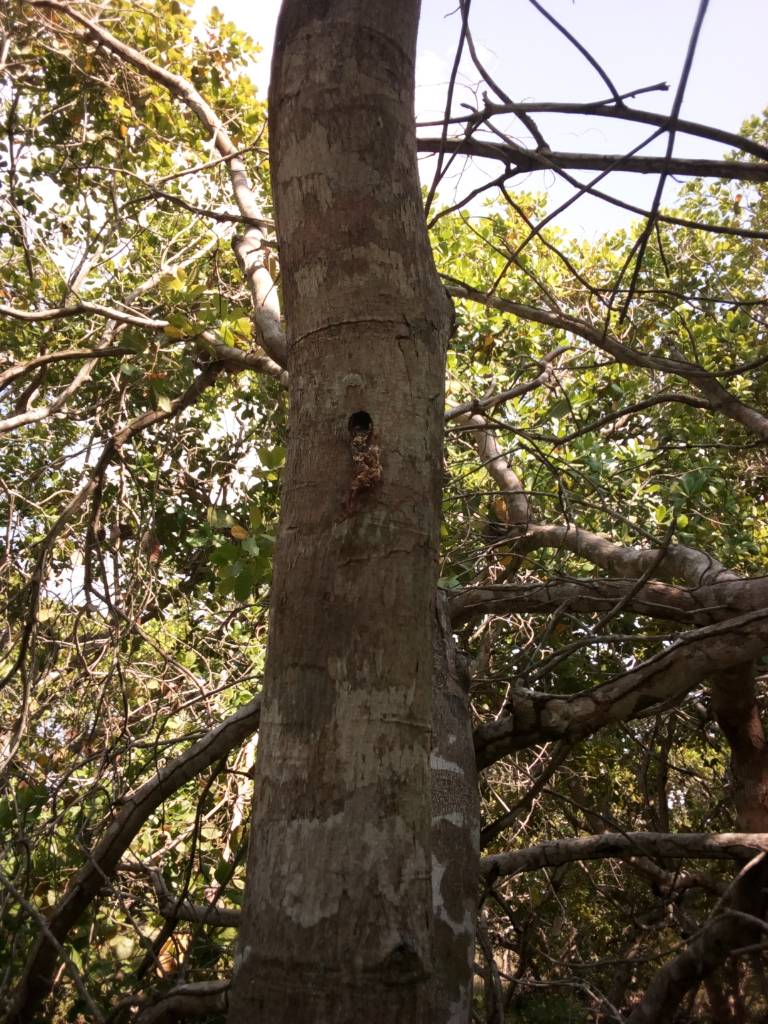Apate terebrans: (316, 405, 455, 532)
